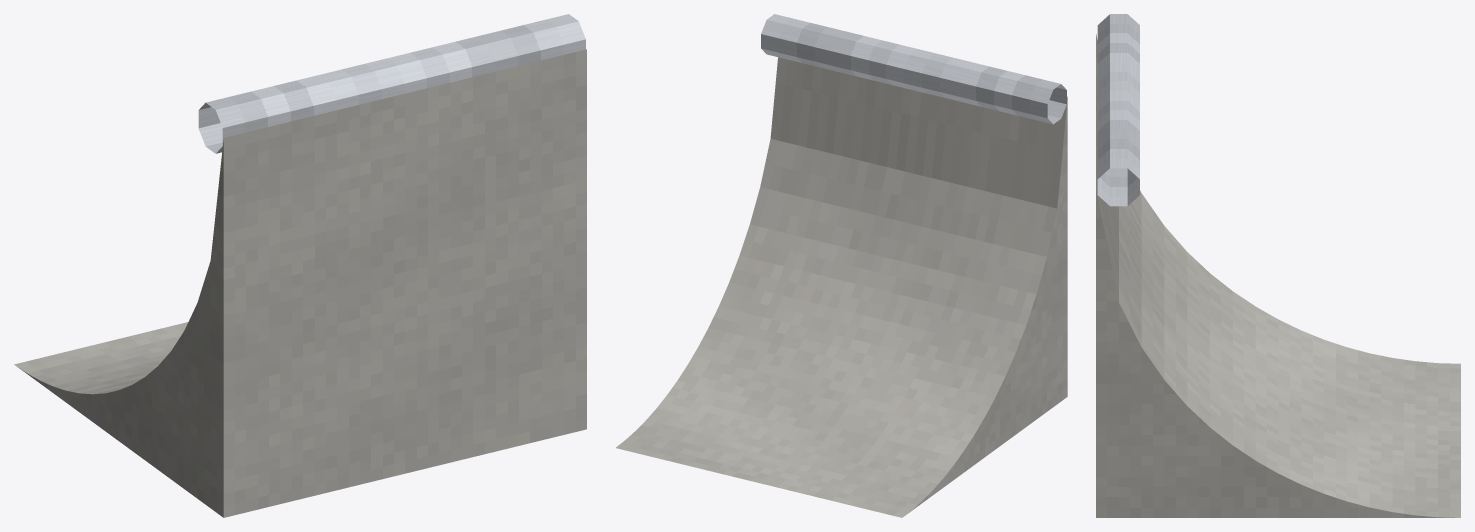
The model's file is qp_small.obj.
The picture shows the model from 3 angles, left to right: view 1: azimuth 30°, elevation 25°; view 2: azimuth 150°, elevation 25°; view 3: azimuth 270°, elevation 25°; orthographic projection. The views are drawn at different scales.
Parts seen in each view (by area): view 1: qp_small; view 2: qp_small; view 3: qp_small.
Boxes of the visible parts, box(x1,y1,x2,y2) form: qp_small: box(14, 14, 586, 517); qp_small: box(616, 14, 1067, 517); qp_small: box(1096, 14, 1460, 517).
Bounding box in the file's own units: 1 × 1.06 × 1.
